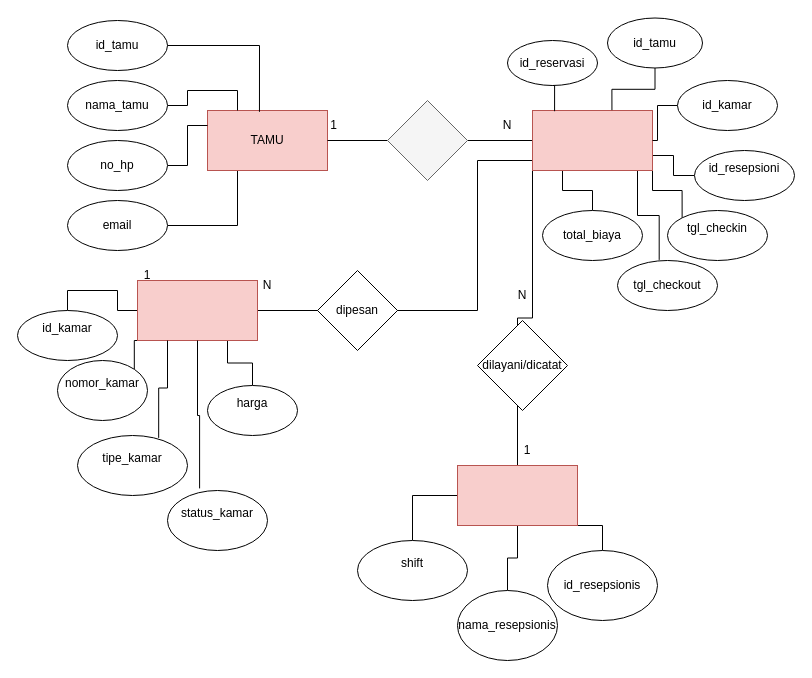
This 812x678 diagram has some shape labels left out. The shapes that lost their labels are listed below. From the top down, each one's centre as x and y in pixels, then its label:
At (427,140): "melakukan".
At (592,140): "RESERVASI".
At (197,310): "KAMAR".
At (517,495): "RESEPSIONIS".
